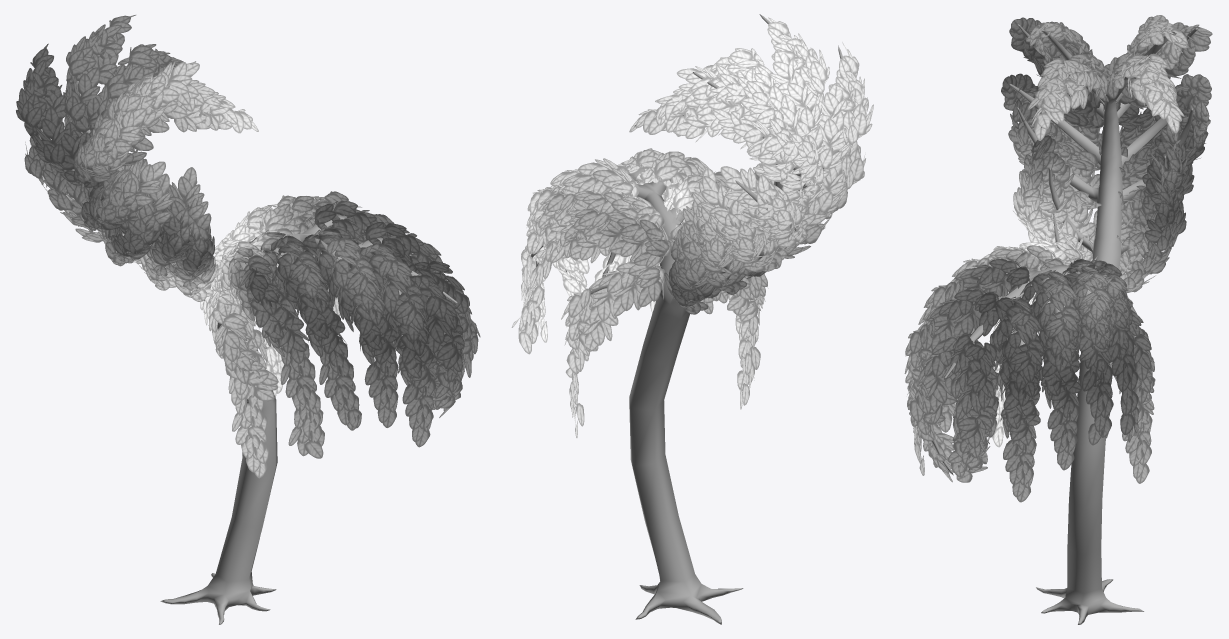
Rendered from Curved Tree Low Poly.fbx.
3 renders of one model, left to right at view 1: azimuth 30°, elevation 25°; view 2: azimuth 150°, elevation 25°; view 3: azimuth 270°, elevation 25°, orthographic. The views are drawn at different scales.
Parts seen in each view (by area): view 1: Leaves, Curved_Tree_Low_Poly; view 2: Leaves, Curved_Tree_Low_Poly; view 3: Leaves, Curved_Tree_Low_Poly.
Part boxes in pixels (x1,y1,x2,y2): Leaves: (16,15,480,478); Curved_Tree_Low_Poly: (38,61,458,624); Leaves: (511,17,873,437); Curved_Tree_Low_Poly: (531,14,842,624); Leaves: (904,15,1212,502); Curved_Tree_Low_Poly: (930,24,1198,624).
Bounding box in the file's own units: 16.4 × 24.51 × 12.57.
